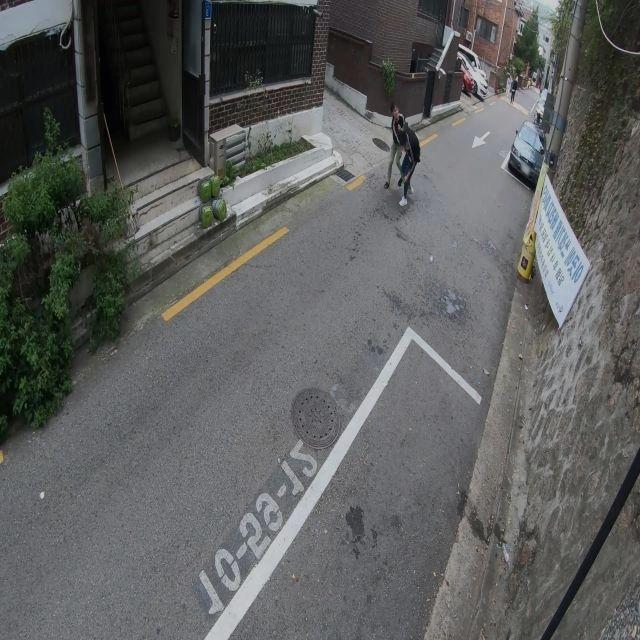fight: (385, 102, 421, 207)
